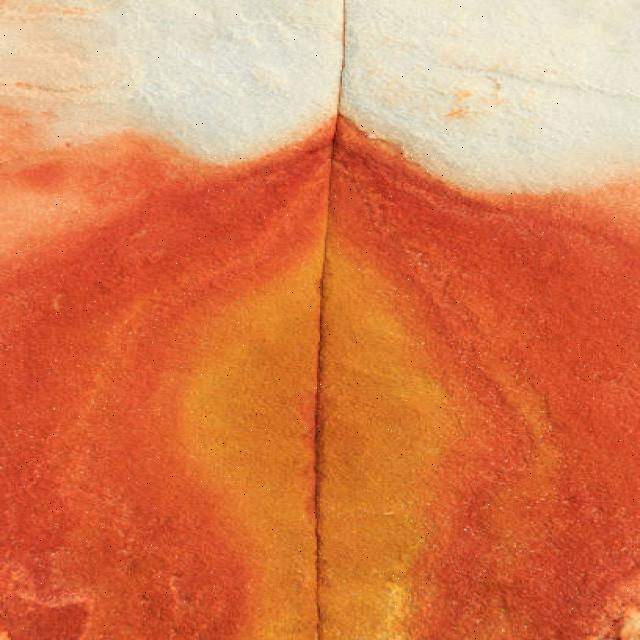Sedimentary: (3, 1, 640, 634)
